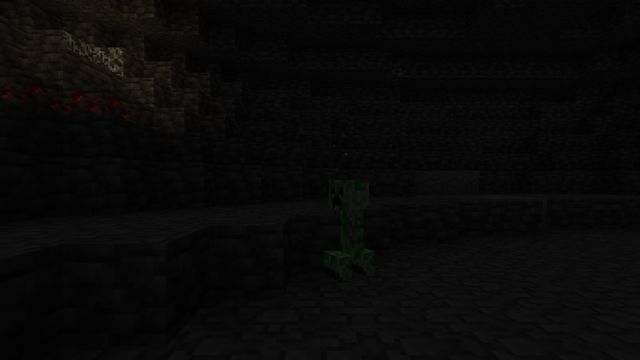creepers: (330, 175, 368, 279)
